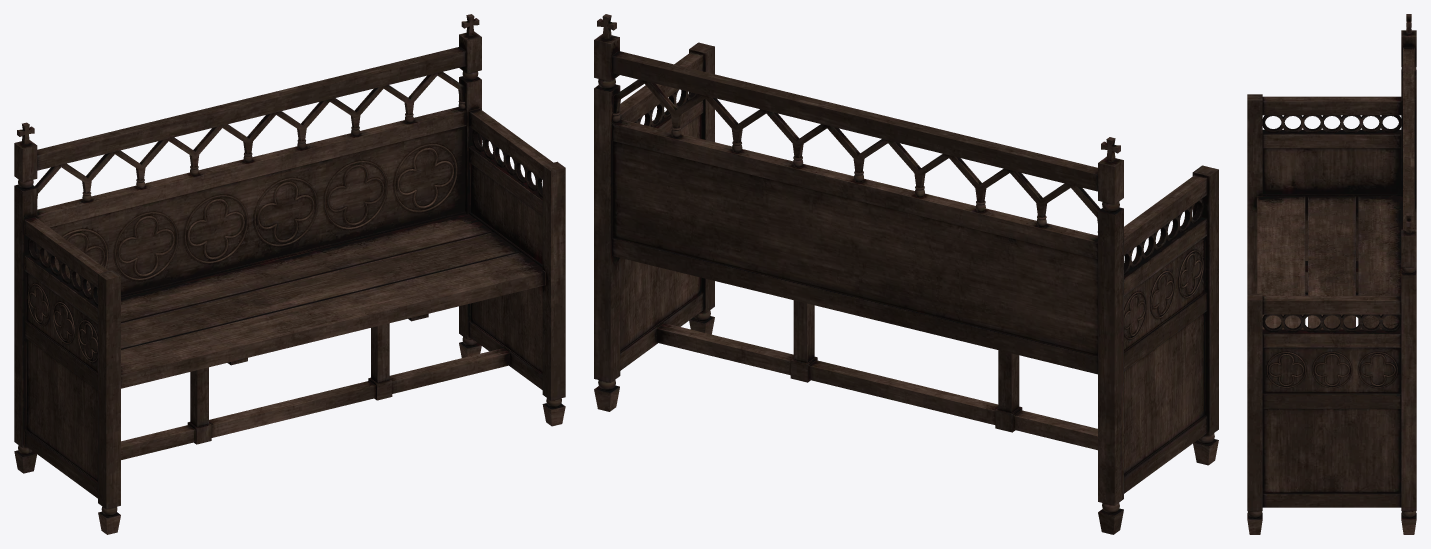
The model's file is banco glb.glb.
3 views of the same model, side by side, from view 1: azimuth 30°, elevation 25°; view 2: azimuth 150°, elevation 25°; view 3: azimuth 270°, elevation 25° (orthographic). The views are drawn at different scales.
Visible parts, largest first — view 1: Cube002, Cube003; view 2: Cube002, Cube003; view 3: Cube002, Cube003.
Boxes of the visible parts, <box> form: Cube002: <box>14,14,565,534</box>; Cube003: <box>27,144,457,362</box>; Cube002: <box>594,14,1218,534</box>; Cube003: <box>1124,250,1203,339</box>; Cube002: <box>1247,14,1416,534</box>; Cube003: <box>1266,352,1397,387</box>.
Size of the model in its own units: 1.79 by 1.29 by 0.6231.
Materials: 2 (2 with a texture image).
